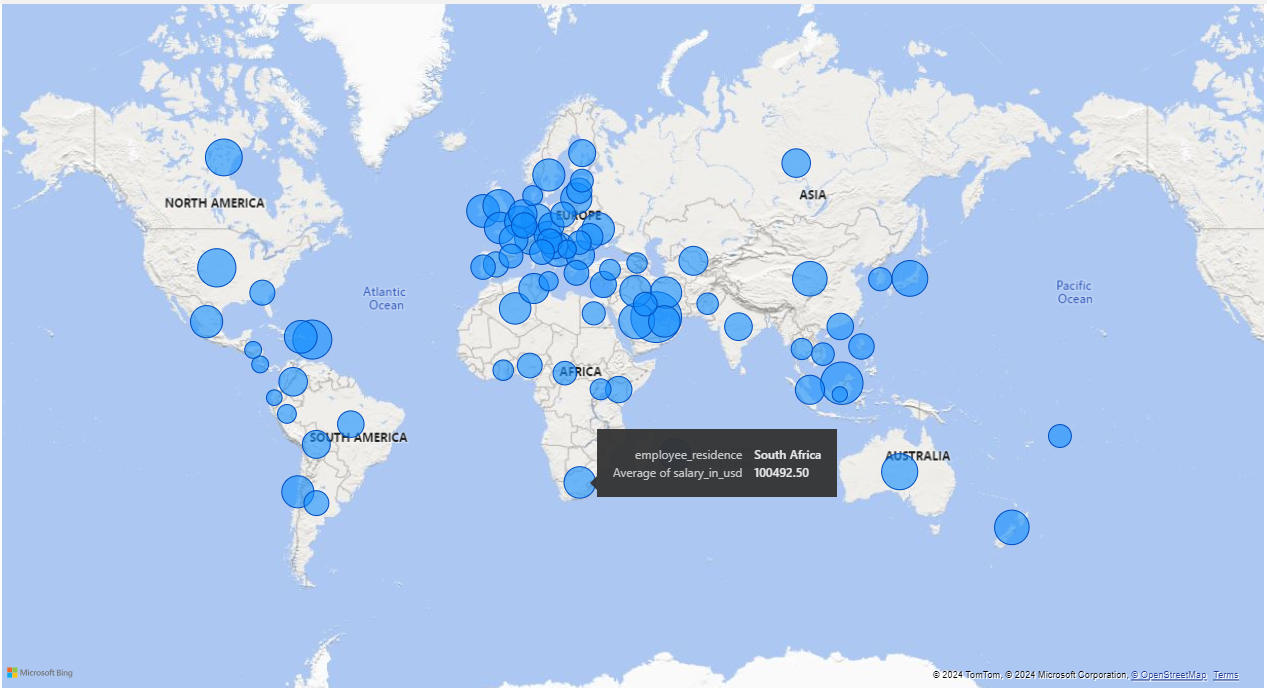

The page's visual inventory and layout, read from the dashboard file:
{"tool":"powerbi","page":{"name":"Page 3","canvas":[1280,720],"ordinal":2},"visuals":[{"type":"map","fields":{"Size":["Avg(Worksheet.salary_in_usd)"],"Category":["Worksheet.employee_residence"]},"box":[9.6,0,1237.7,705.3],"z":0}]}

Visuals, with their boxes on the page's 1280x720 design canvas (x1, y1, x2, y2). These are canvas units, not pixel positions in the 1267x691 screenshot, which may show the page scaled, cropped or inside an application window:
map - Avg(Worksheet.salary_in_usd) x Worksheet.employee_residence: 10/0/1247/705
